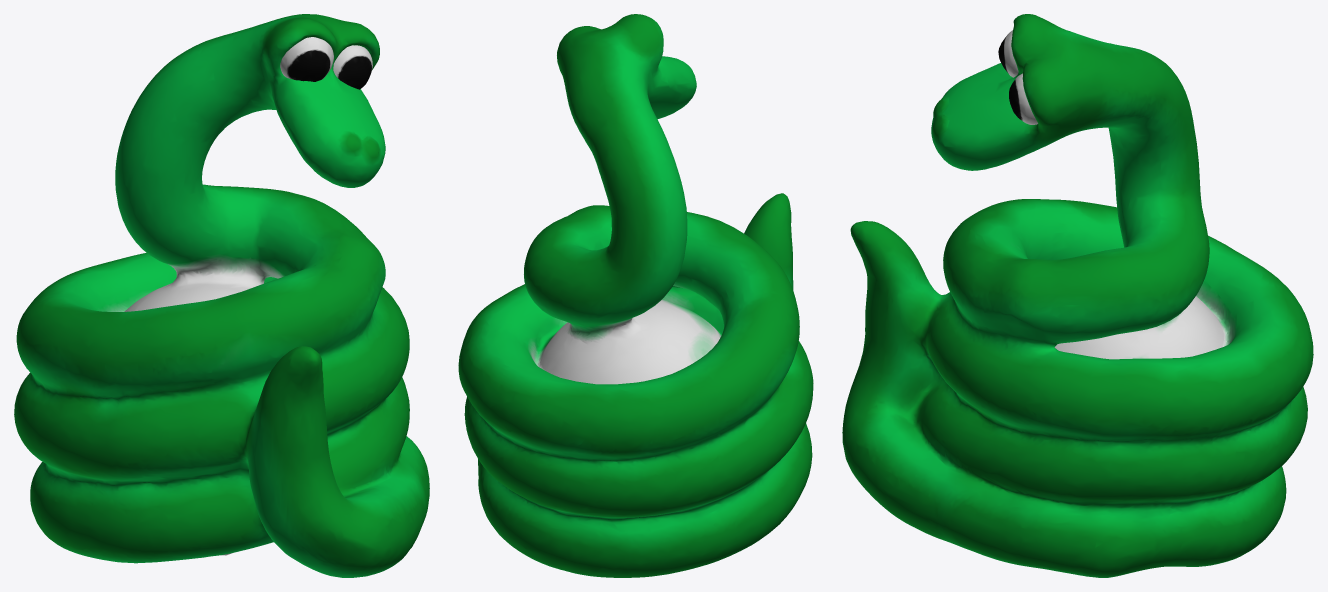
Rendered from smeerws_2018-03-09_17-13-35snake.fbx.
3 views of the same model, side by side, from view 1: azimuth 30°, elevation 25°; view 2: azimuth 150°, elevation 25°; view 3: azimuth 270°, elevation 25° (orthographic). The views are drawn at different scales.
Parts seen in each view (by area): view 1: Layer_1, Layer_2; view 2: Layer_1; view 3: Layer_1, Layer_2.
Boxes of the visible parts, bbox=[...] form: Layer_1: bbox=[14, 14, 429, 577]; Layer_2: bbox=[280, 37, 372, 89]; Layer_1: bbox=[458, 14, 813, 577]; Layer_1: bbox=[842, 14, 1313, 577]; Layer_2: bbox=[998, 30, 1037, 124].
Bounding box in the file's own units: 0.9497 × 1.14 × 1.43.
